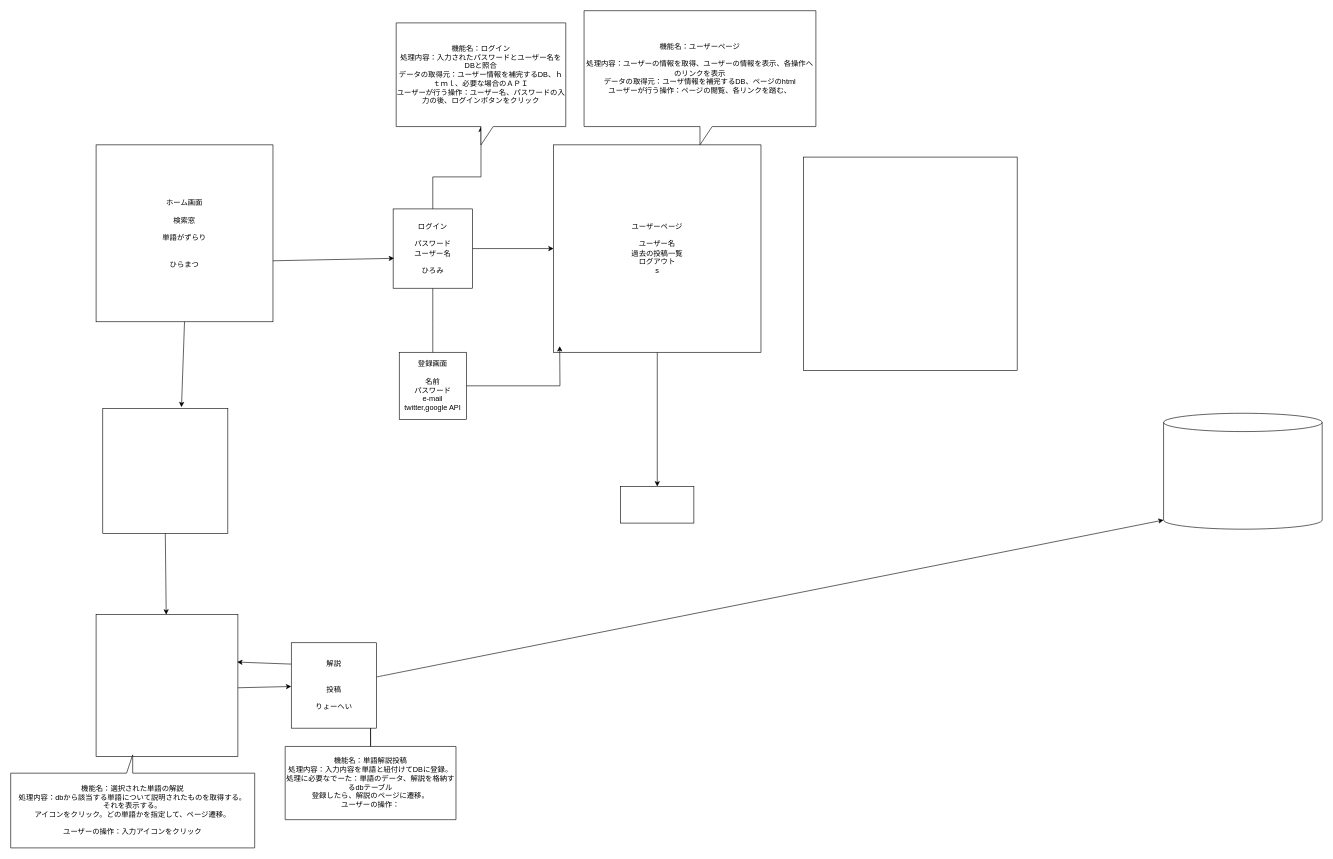
Some shapes in this 1333 by 859 pixel diagram are drawn without their labels. Each missing label, with the box of its shape:
ログインした状態: (620, 486, 694, 523)
単語 解説 解説 解説 ひらまつ: (102, 408, 228, 533)
単語の解説 書き込むアイコン りょーへい: (95, 614, 238, 756)
機能名 処理内容 処理に必要なデータ データの取得元 ユーザーが行い操作: (803, 156, 1017, 371)
